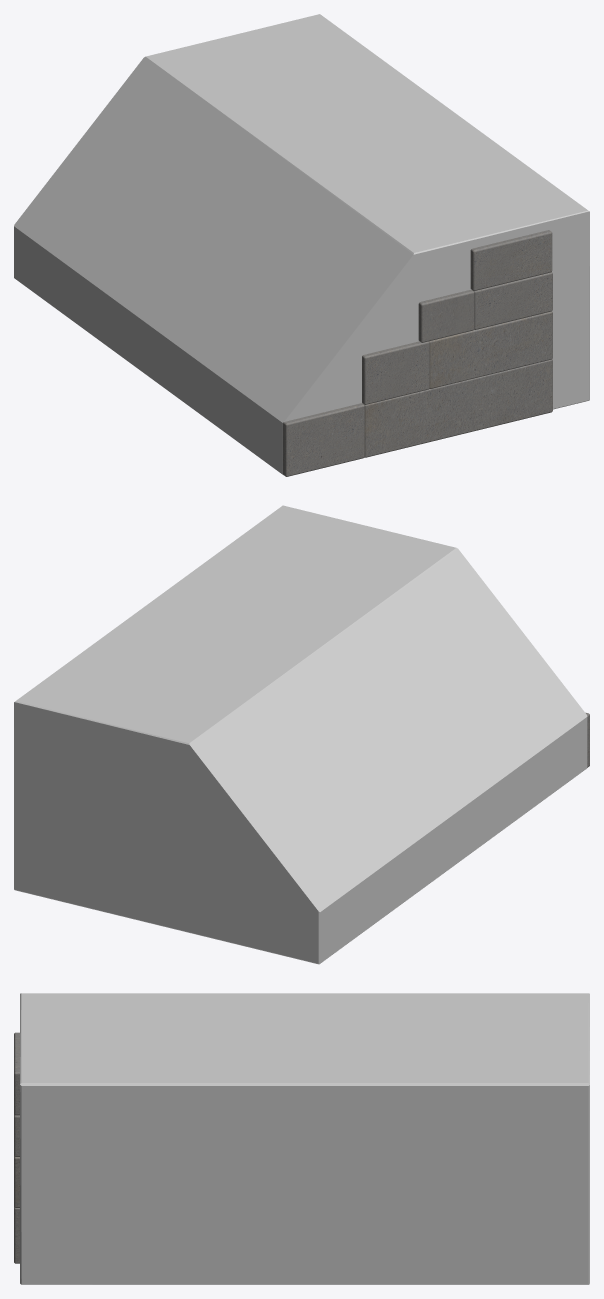
Rendered from SM_DG_Stair01B.fbx.
3 views of the same model, one above another, from view 1: azimuth 30°, elevation 25°; view 2: azimuth 150°, elevation 25°; view 3: azimuth 270°, elevation 25° (orthographic). The views are drawn at different scales.
Visible parts, largest first — view 1: SM_DG_Stair01B_ConvexHulls, SM_DG_Stair01B; view 2: SM_DG_Stair01B_ConvexHulls; view 3: SM_DG_Stair01B_ConvexHulls, SM_DG_Stair01B.
Part boxes in pixels (x1=…): SM_DG_Stair01B_ConvexHulls: x1=14, y1=14, x2=589, y2=474; SM_DG_Stair01B: x1=282, y1=230, x2=552, y2=476; SM_DG_Stair01B_ConvexHulls: x1=14, y1=505, x2=587, y2=964; SM_DG_Stair01B_ConvexHulls: x1=20, y1=993, x2=589, y2=1284; SM_DG_Stair01B: x1=14, y1=1032, x2=19, y2=1263.
Bounding box in the file's own units: 162 × 248 × 95.69.
Materials: 2 (1 with a texture image).
